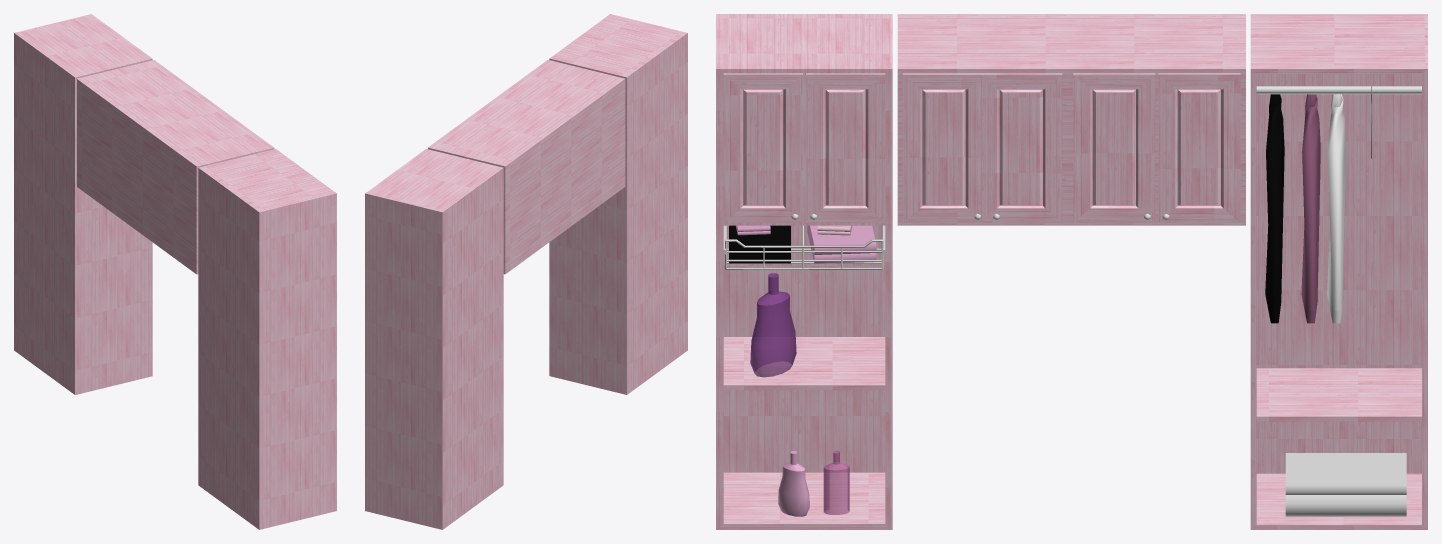
The model's file is barbie closet.fbx.
3 renders of one model, left to right at view 1: azimuth 30°, elevation 25°; view 2: azimuth 150°, elevation 25°; view 3: azimuth 270°, elevation 25°, orthographic. The views are drawn at different scales.
Parts seen in each view (by area): view 1: polySurface23, polySurface31, polySurface32; view 2: polySurface31, polySurface23, polySurface32; view 3: polySurface31, polySurface23, polySurface32, polySurface28, polySurface26, polySurface27, polySurface22, polySurface29, polySurface30, polySurface24, polySurface66, polySurface25 (+10 smaller).
Part boxes in pixels (x1,y1,x2,y2): polySurface23: [198, 149, 336, 529]; polySurface31: [14, 14, 152, 394]; polySurface32: [77, 60, 274, 274]; polySurface31: [365, 149, 503, 529]; polySurface23: [549, 14, 687, 394]; polySurface32: [428, 60, 625, 274]; polySurface31: [1250, 14, 1427, 529]; polySurface23: [716, 14, 892, 529]; polySurface32: [897, 14, 1245, 225]; polySurface28: [980, 73, 1062, 222]; polySurface26: [1073, 73, 1155, 222]; polySurface27: [1158, 73, 1240, 222]; polySurface22: [806, 73, 885, 222]; polySurface29: [903, 73, 984, 222]; polySurface30: [723, 73, 802, 222]; polySurface24: [1256, 368, 1421, 421]; polySurface66: [1285, 453, 1406, 516]; polySurface25: [723, 337, 885, 390].
Size of the model in its own units: 0.6074 by 2.24 by 3.13.
9 materials, 1 textured.
